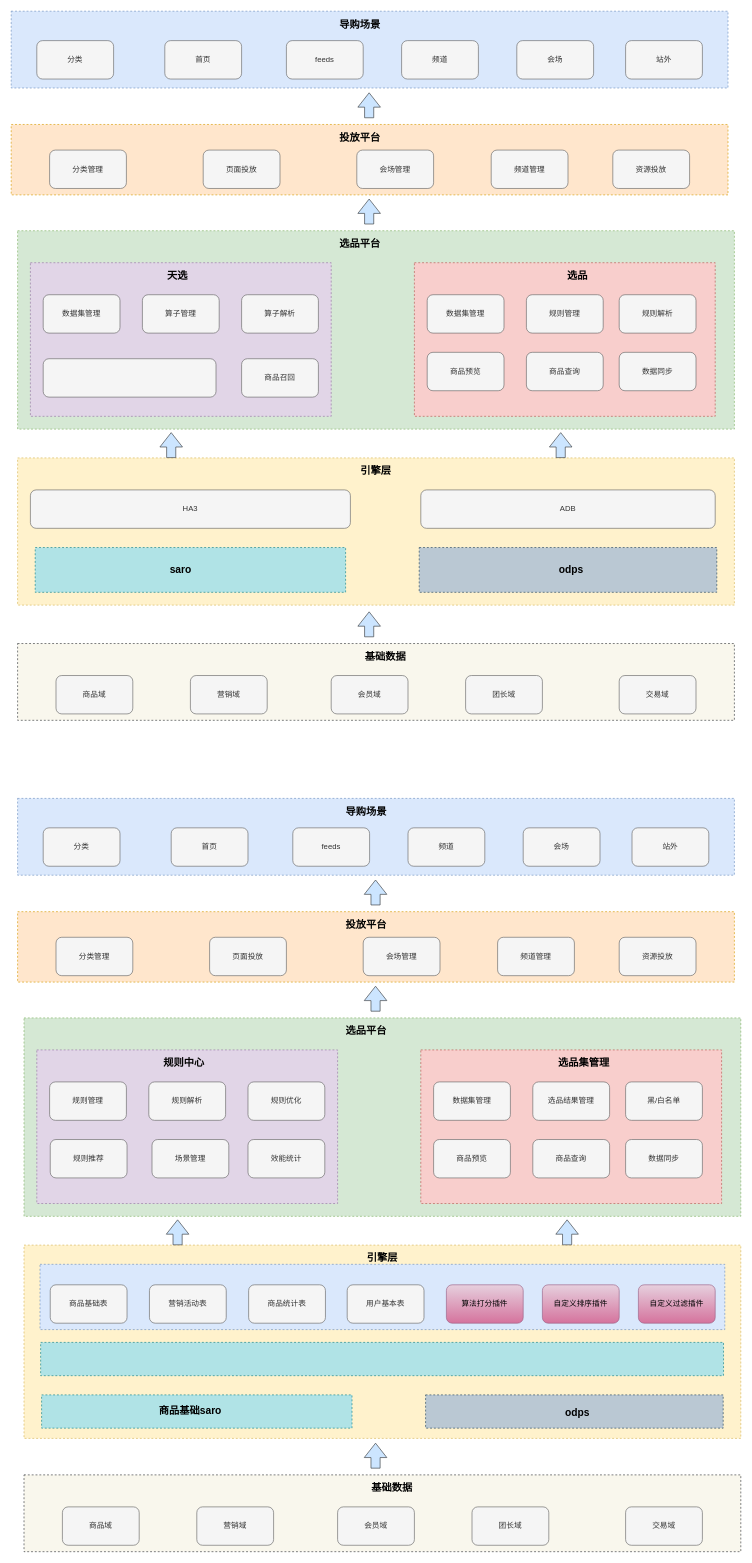
This 752x1563 diagram has some shape labels left out. Here are the shapes that lost their labels. From the top down, the centre of each, then its label:
(129,377): 营销活动召回
(382,1359): 汇总saro
